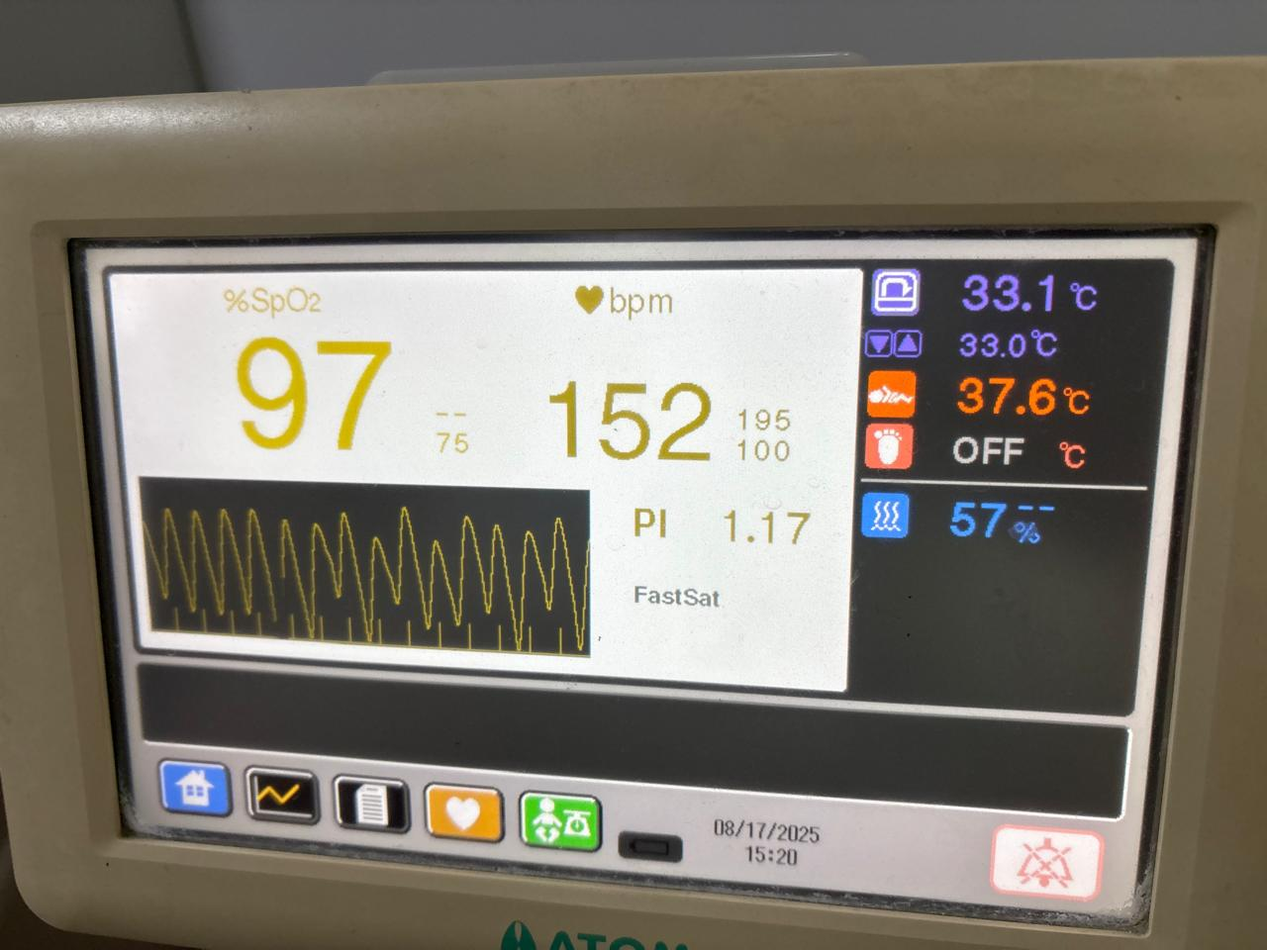air_temp_value: (945, 254, 1070, 330)
heart_rate_value: (531, 363, 722, 478)
humidity_value: (934, 488, 1013, 550)
skin_temp_value: (947, 366, 1058, 423)
spo2_value: (219, 328, 397, 466)
